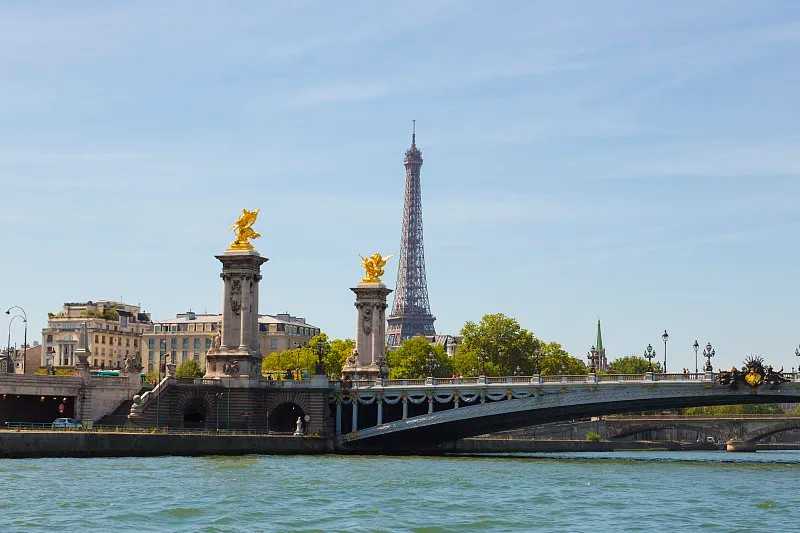Eiffel: (384, 118, 437, 354)
